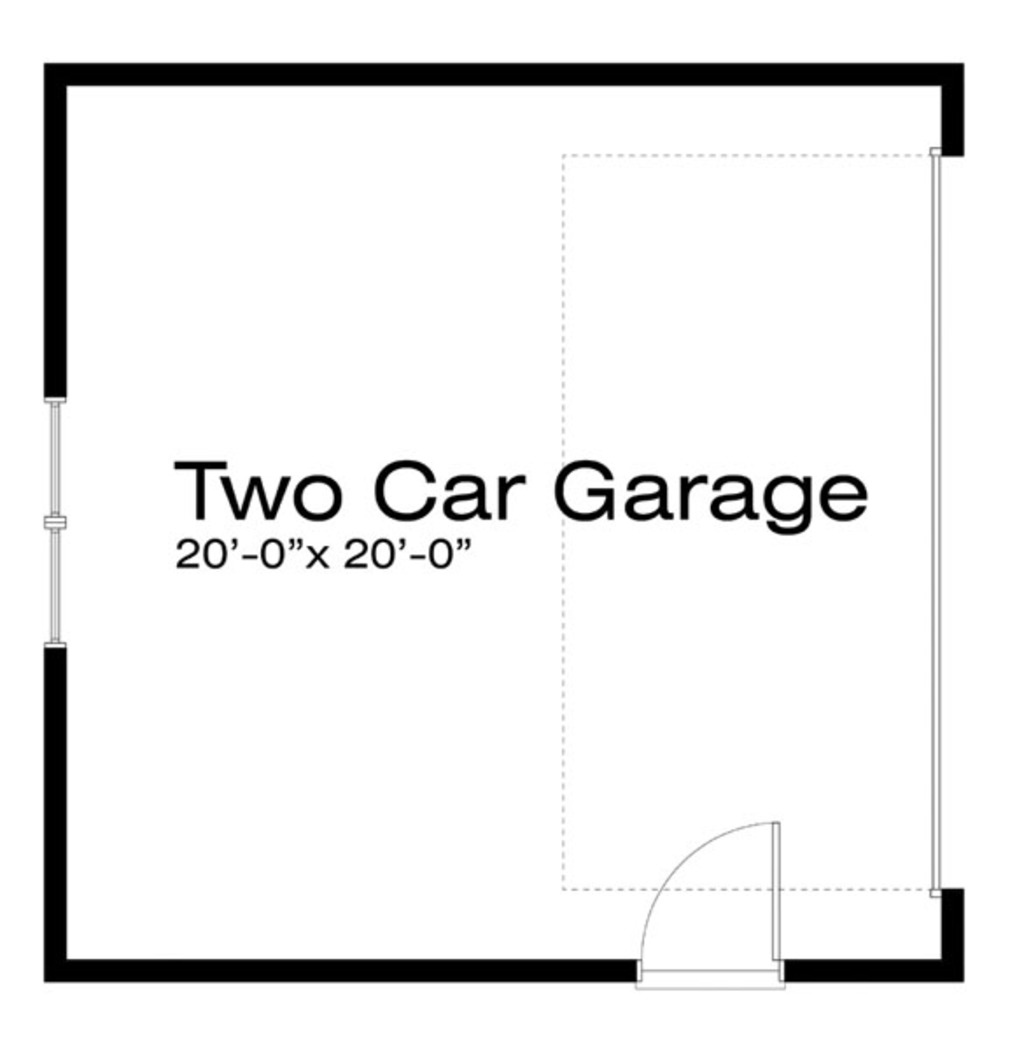door: (631, 804, 791, 996)
window: (39, 394, 77, 650)
